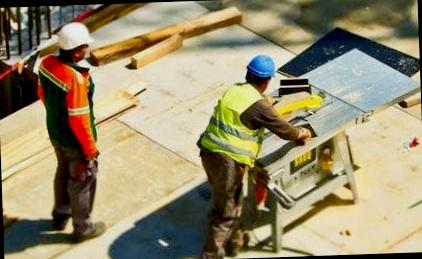helmet: (55, 21, 97, 53), (246, 53, 278, 82)
person: (192, 52, 286, 258), (36, 23, 106, 244)
